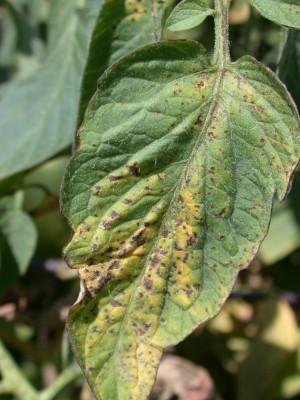Tomato leaf late blight: (62, 26, 294, 399)
